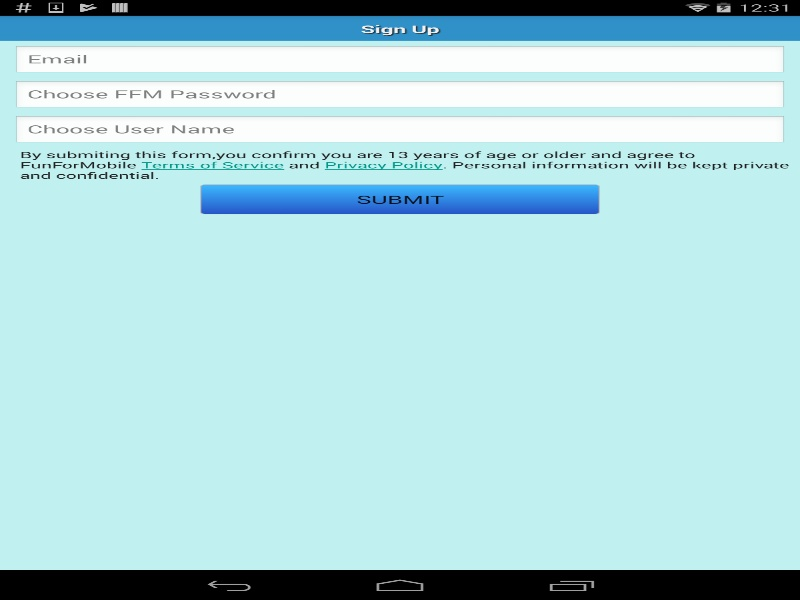Button: (200, 184, 600, 214)
Input: (13, 45, 786, 75), (13, 80, 786, 110), (13, 115, 786, 145)
